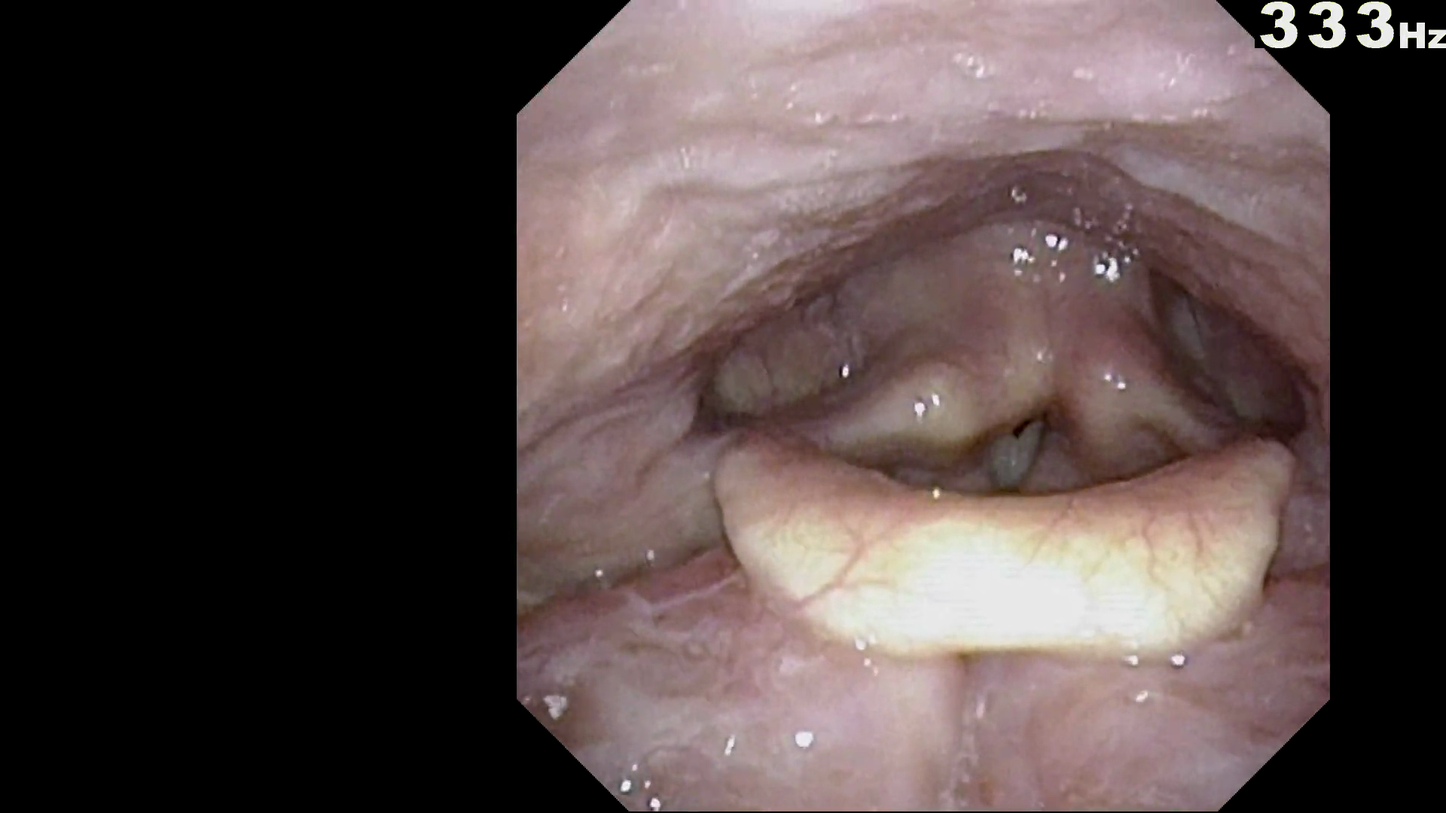epiglottis: (704, 406, 1307, 665)
trachea: (975, 402, 1064, 490)
